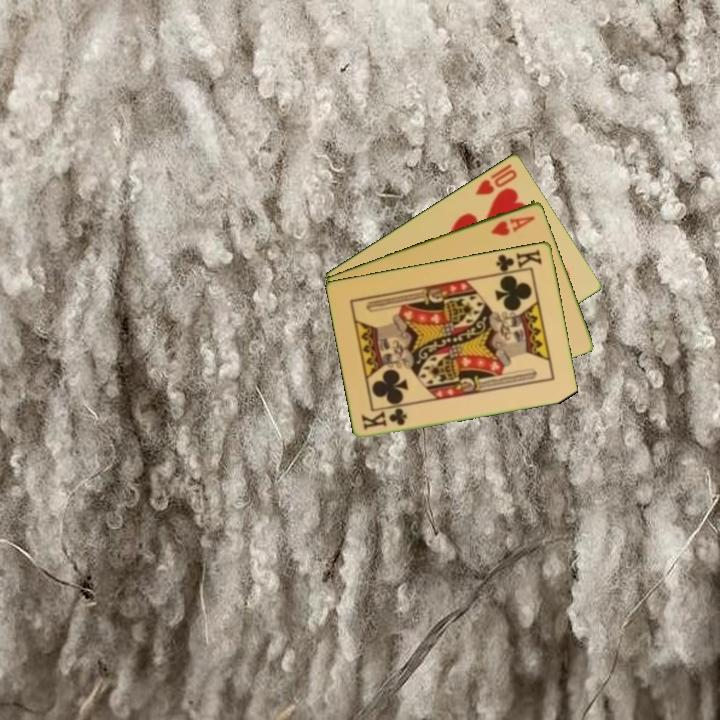10h: (472, 165, 520, 198)
Ah: (487, 212, 538, 239)
Kc: (492, 245, 545, 276), (358, 405, 410, 433)
